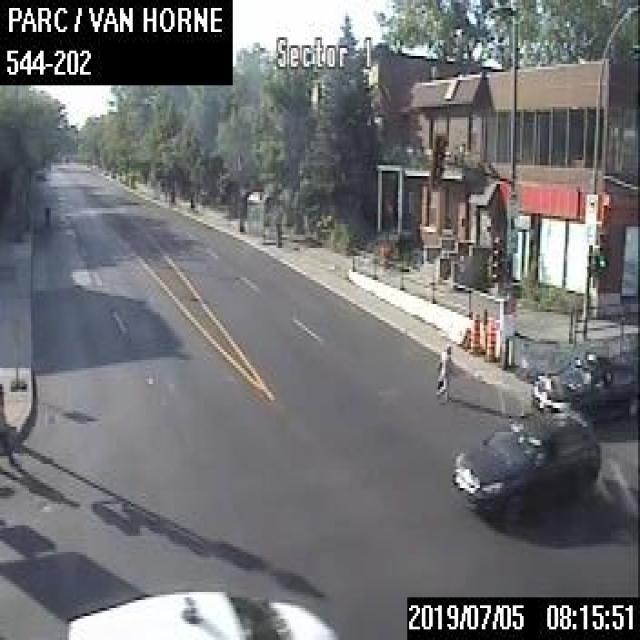construction: (466, 310, 484, 354), (483, 317, 500, 361)
pedestrian: (431, 339, 453, 405), (42, 201, 50, 227)
vehicle: (452, 407, 599, 520), (62, 584, 334, 637), (532, 349, 638, 421)
